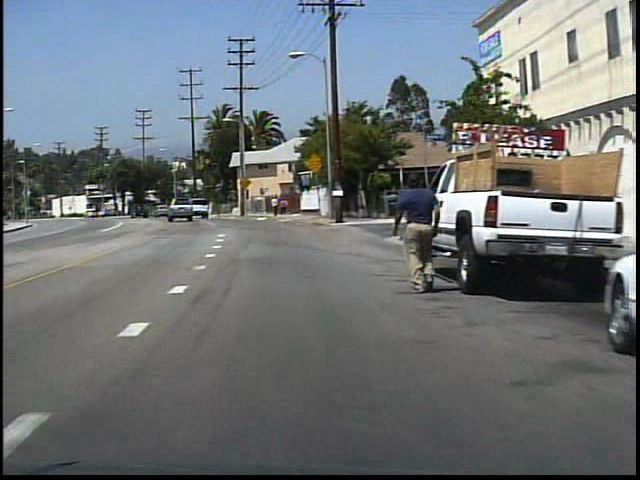person: (383, 166, 437, 293), (270, 195, 280, 219), (278, 197, 288, 218)
